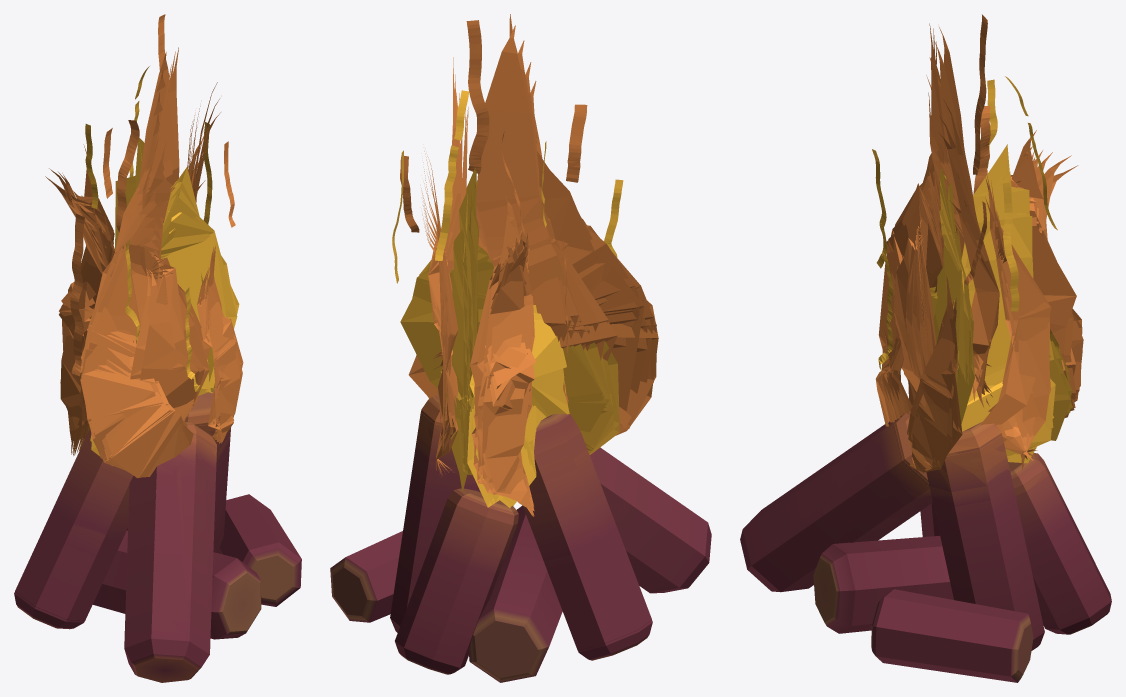
File: Fire.fbx
3 views of the same model, side by side, from view 1: azimuth 30°, elevation 25°; view 2: azimuth 150°, elevation 25°; view 3: azimuth 270°, elevation 25° (orthographic). The views are drawn at different scales.
Parts seen in each view (by area): view 1: FireLoop_baked; view 2: FireLoop_baked; view 3: FireLoop_baked.
Part boxes in pixels (box(x1,y1,x2,y2)): FireLoop_baked: box(14, 14, 301, 682); FireLoop_baked: box(330, 14, 711, 682); FireLoop_baked: box(740, 14, 1111, 682).
Bounding box in the file's own units: 1.53 × 3.14 × 1.69.
